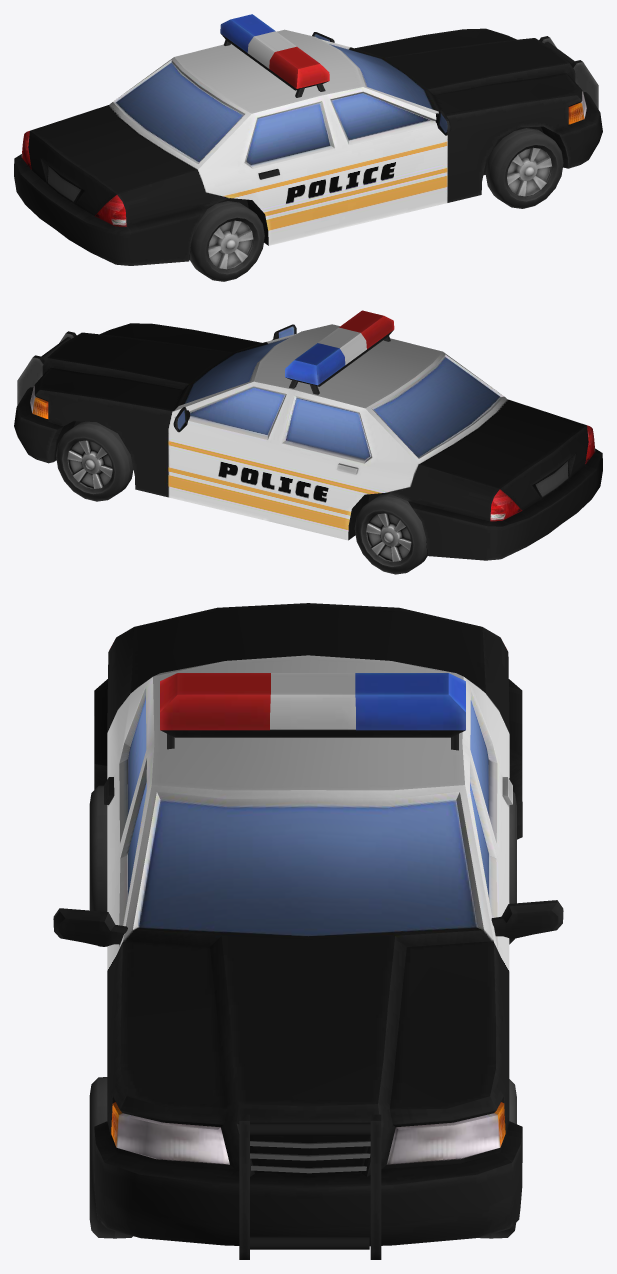
File: police_car.glb
The picture shows the model from 3 angles, top to bottom: view 1: azimuth 30°, elevation 25°; view 2: azimuth 150°, elevation 25°; view 3: azimuth 270°, elevation 25°; orthographic projection. The views are drawn at different scales.
Visible parts, largest first — view 1: police_car; view 2: police_car; view 3: police_car.
Part boxes in pixels (x1,y1,x2,y2): police_car: [14, 14, 602, 281]; police_car: [14, 310, 602, 574]; police_car: [53, 603, 563, 1259].
Size of the model in its own units: 5.69 by 1.8 by 2.36.
Materials: 1 (1 with a texture image).
